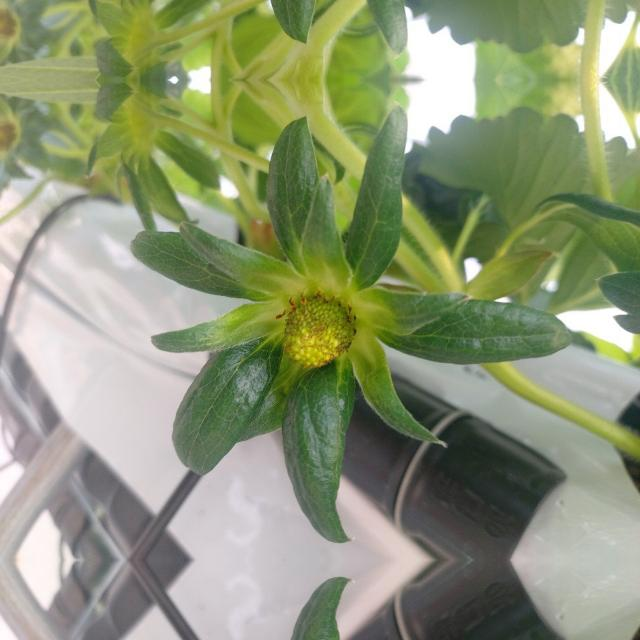Health_25: (281, 289, 357, 369)
